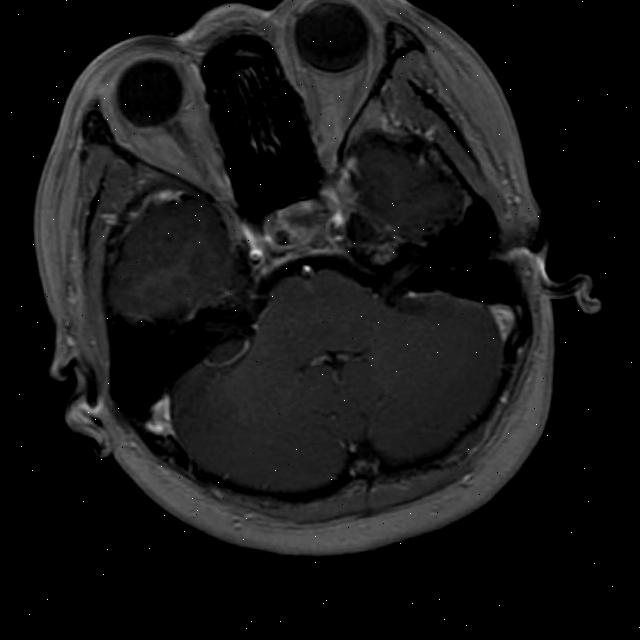Pituitary: (263, 197, 331, 252)
